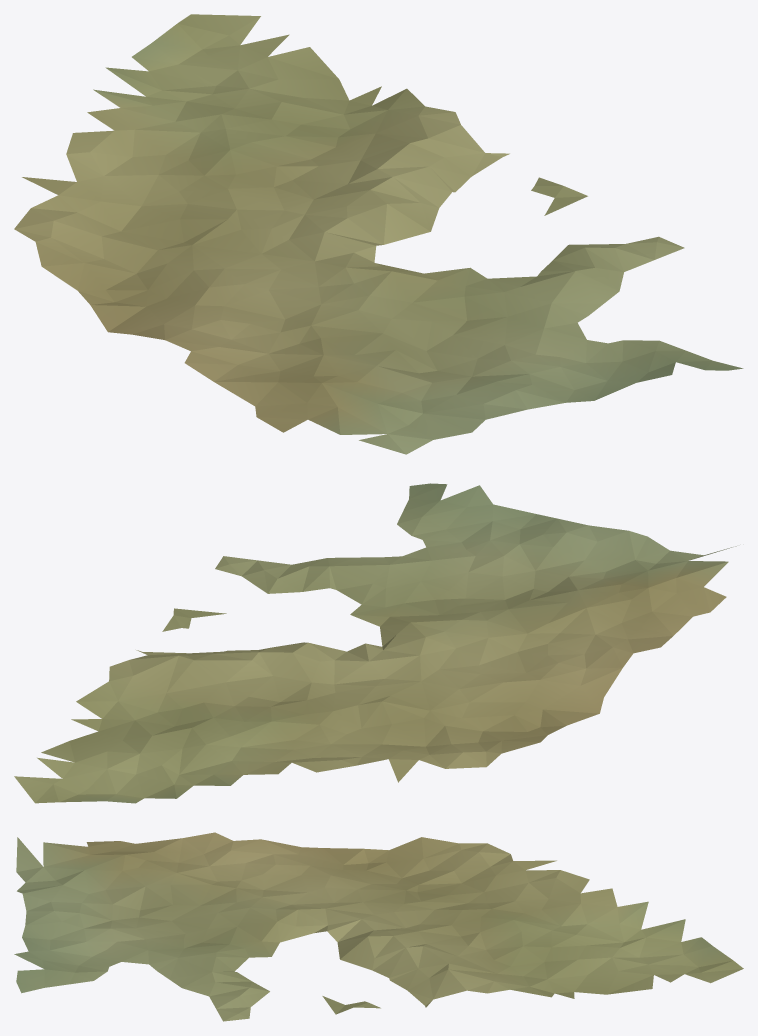
3 renders of one model, top to bottom at view 1: azimuth 30°, elevation 25°; view 2: azimuth 150°, elevation 25°; view 3: azimuth 270°, elevation 25°, orthographic. The views are drawn at different scales.
Visible parts, largest first — view 1: 华北平原; view 2: 华北平原; view 3: 华北平原.
Boxes of the visible parts, bbox=[...] form: 华北平原: bbox=[14, 14, 743, 454]; 华北平原: bbox=[14, 483, 736, 803]; 华北平原: bbox=[14, 832, 743, 1021].
Size of the model in its own units: 9.2 by 0.6515 by 15.68.
